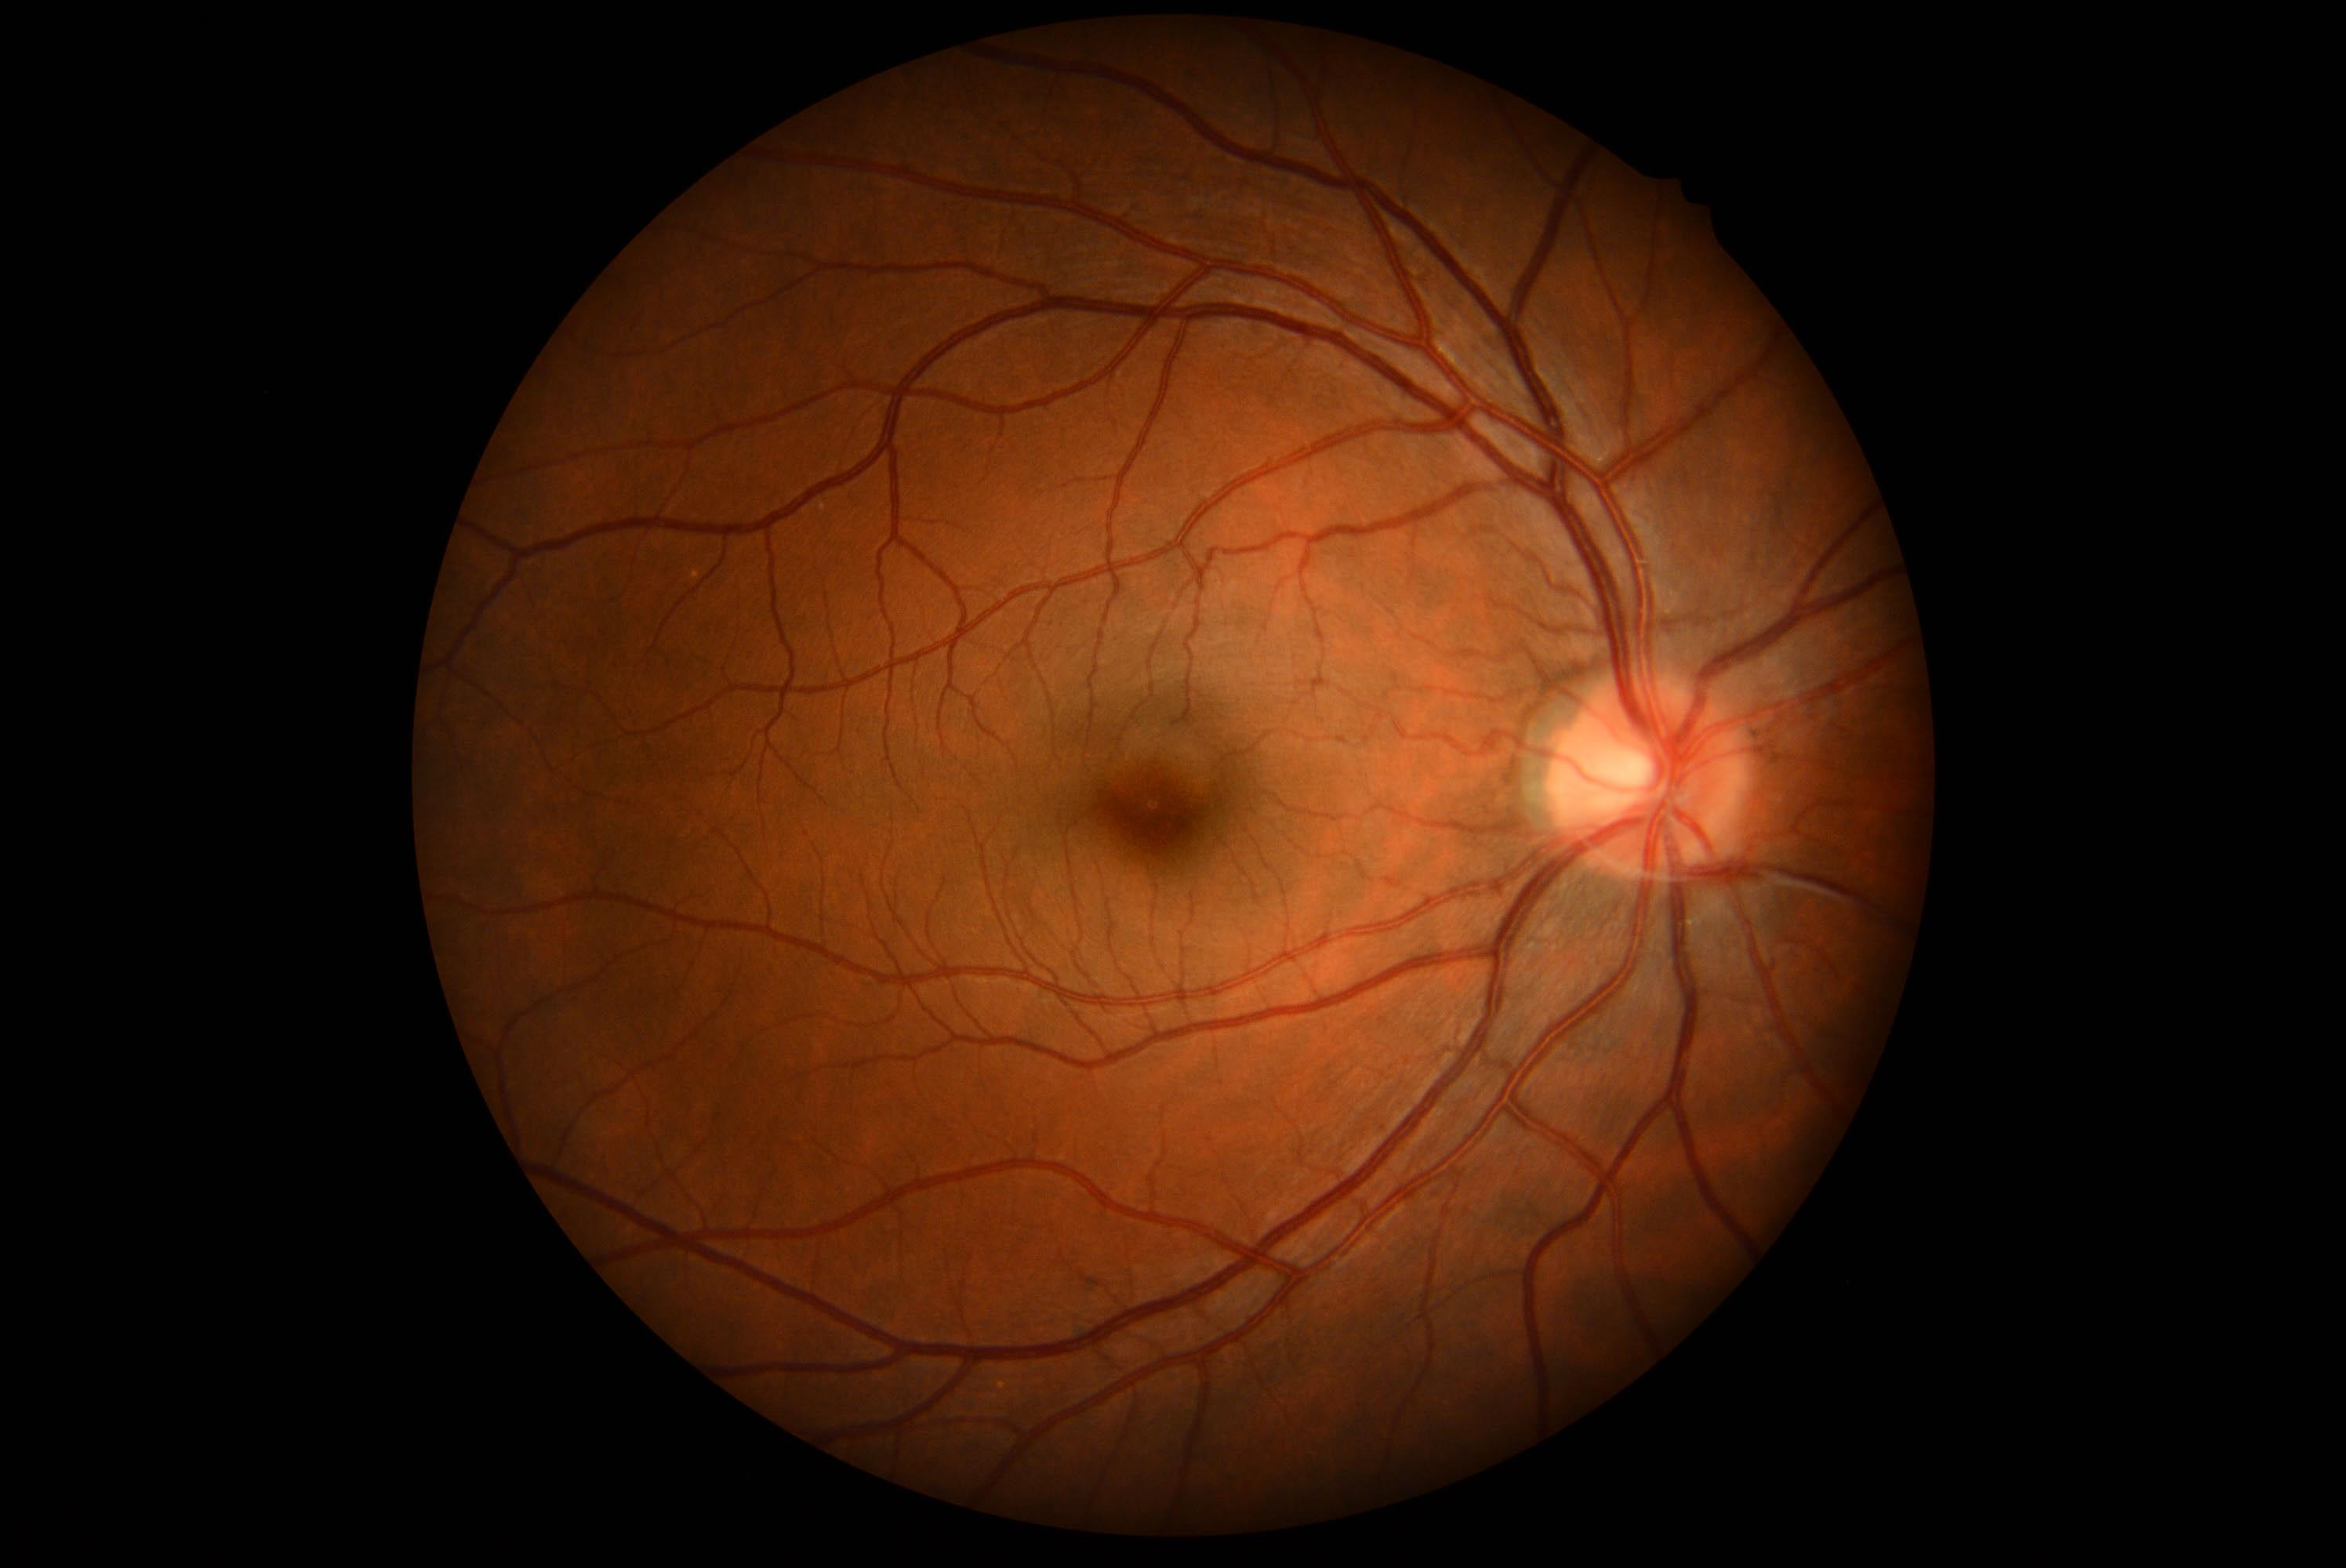Fovea: (1076, 726, 1233, 877)
